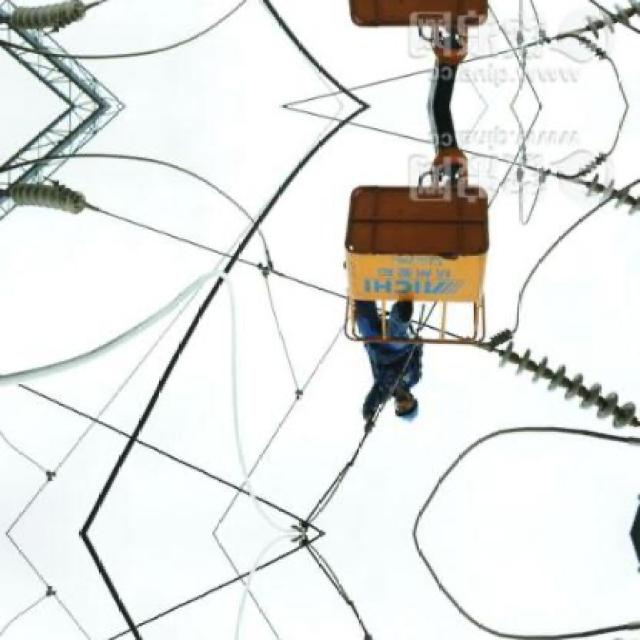con casco: (376, 398, 422, 441)
